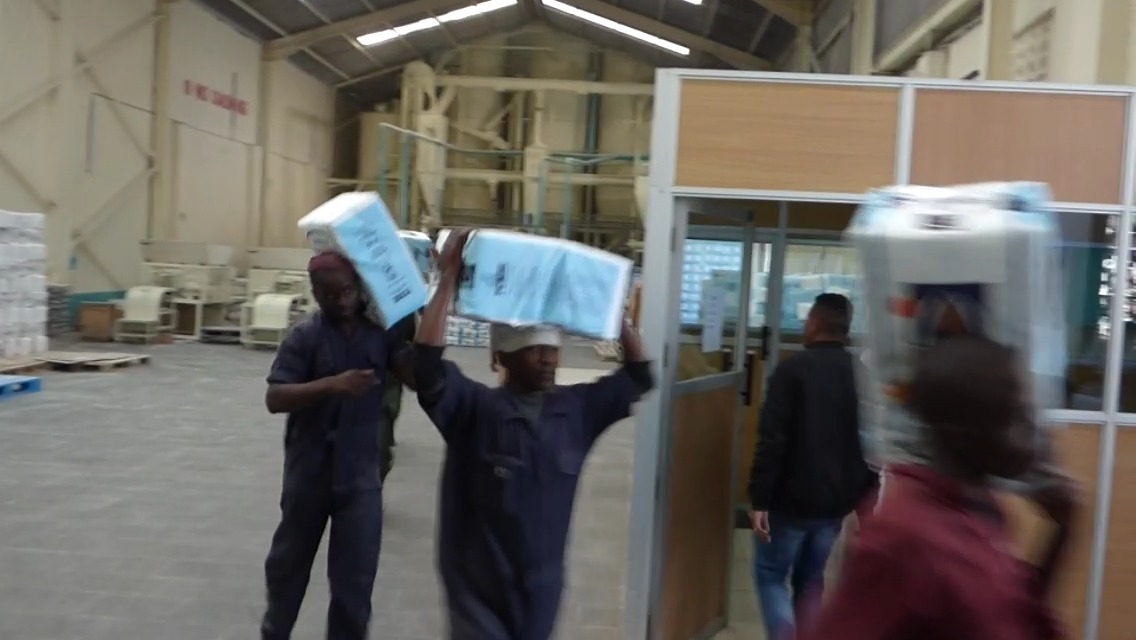wheat_flour_blue_label: (855, 182, 1062, 455), (444, 229, 626, 339), (300, 192, 430, 323)
